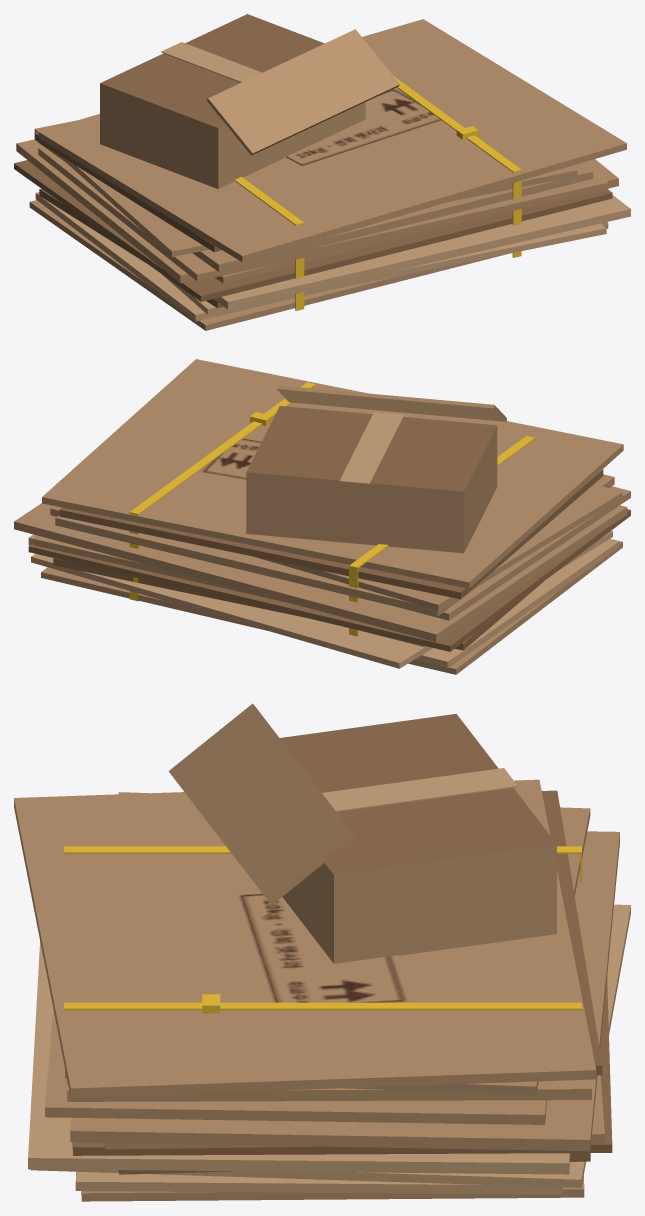
File: SC_Home_Cardboard_Pile.gltf
3 renders of one model, top to bottom at view 1: azimuth 30°, elevation 25°; view 2: azimuth 150°, elevation 25°; view 3: azimuth 270°, elevation 25°, orthographic. The views are drawn at different scales.
Parts seen in each view (by area): view 1: SC_Home_Cardboard_Pile; view 2: SC_Home_Cardboard_Pile; view 3: SC_Home_Cardboard_Pile.
Boxes of the visible parts, x1=… form: SC_Home_Cardboard_Pile: x1=14, y1=14, x2=630, y2=330; SC_Home_Cardboard_Pile: x1=14, y1=359, x2=630, y2=674; SC_Home_Cardboard_Pile: x1=14, y1=703, x2=630, y2=1201.
Bounding box in the file's own units: 0.8356 × 0.3096 × 0.6842.
Materials: 2 (2 with a texture image).
